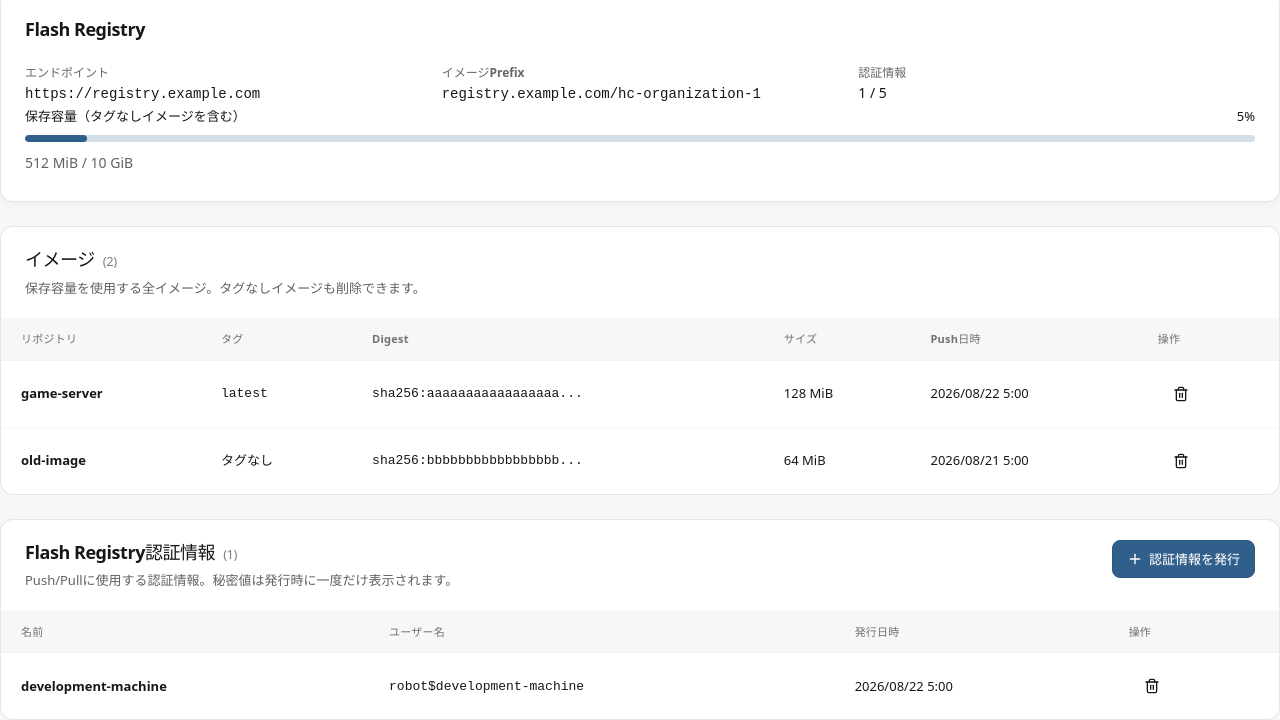
Test: RegistryPage › 確認後にRegistry認証情報を削除する
Later steps or results of the test are not shown.
(page scrolled)
Click the button named "development-machineを削除".
click(1152, 686)  # box [1129, 667, 1175, 705]
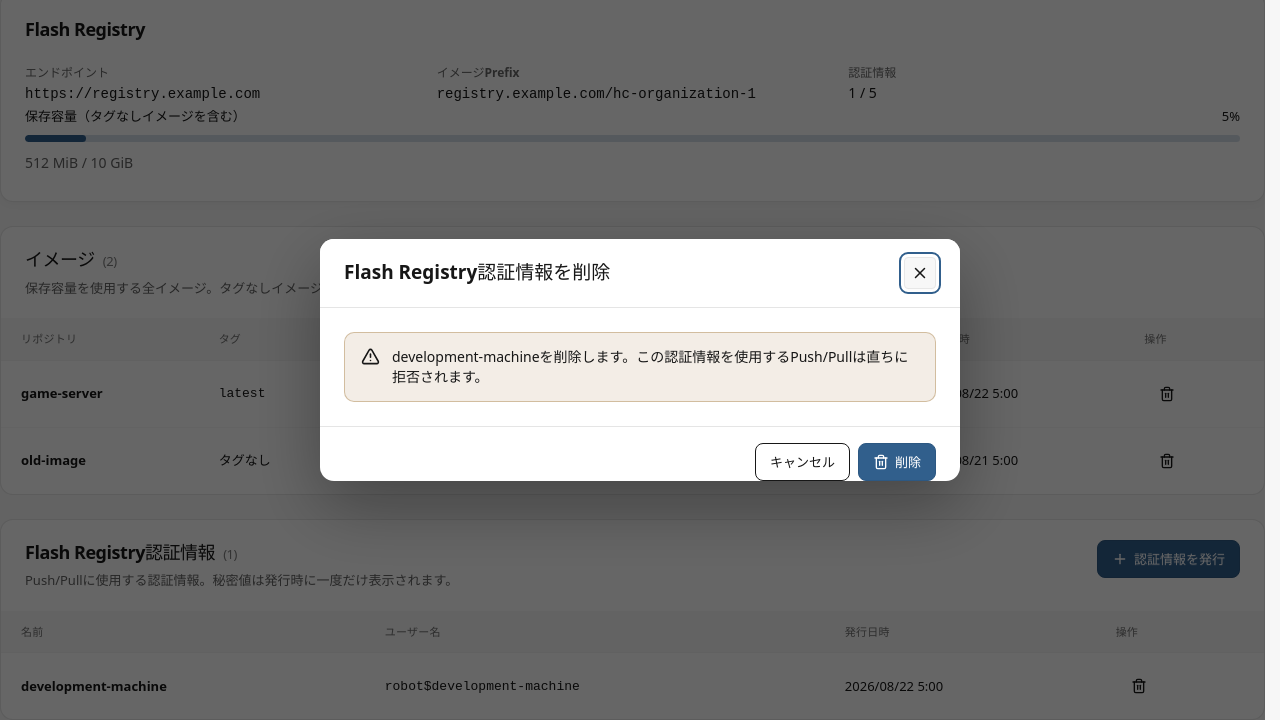
Expected: the dialog "Flash Registry認証情報を削除" is shown, [320, 239, 960, 481]
